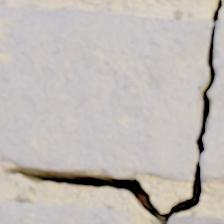brick: (0, 200, 134, 223), (169, 216, 223, 223)
broken_brick: (0, 7, 212, 181), (200, 20, 223, 181)
crack: (1, 0, 223, 223)
